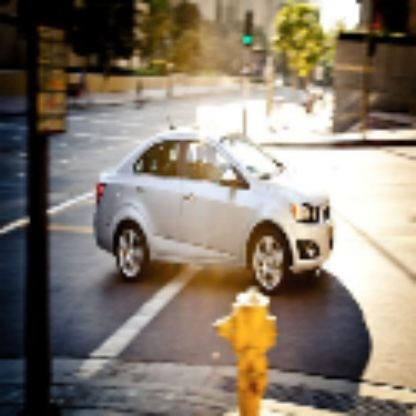Vehicle: (93, 101, 338, 298)
